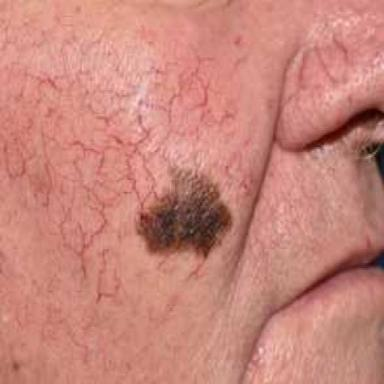Melanoma: (135, 165, 233, 260)
